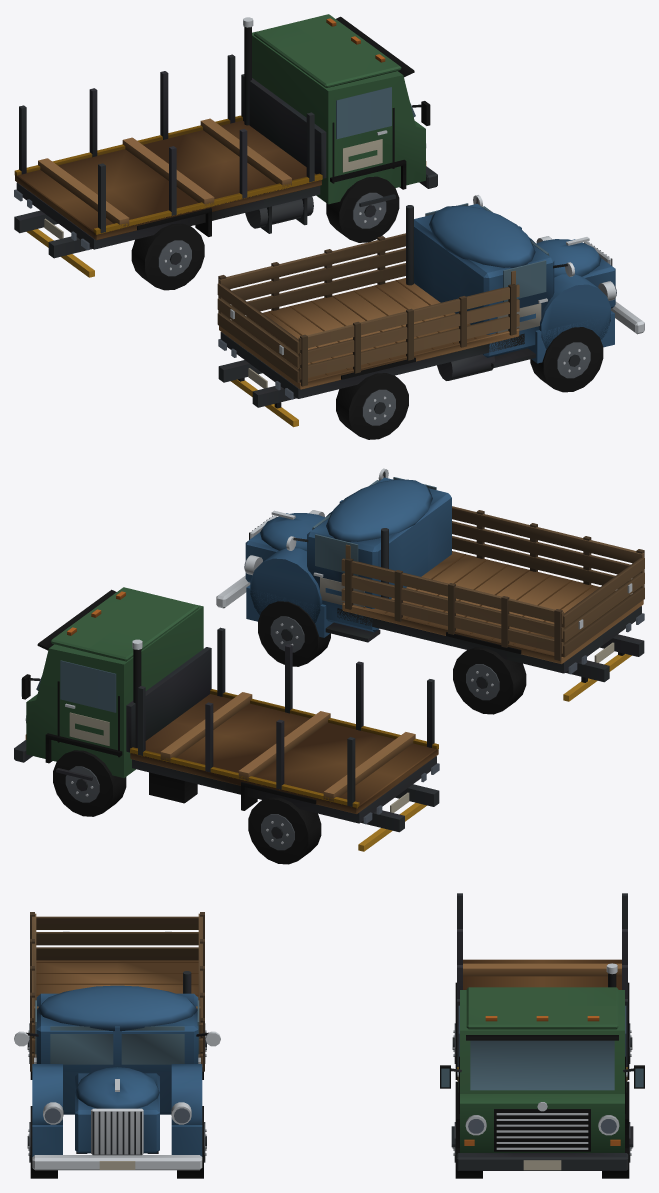
File: truck.glb
3 renders of one model, top to bottom at view 1: azimuth 30°, elevation 25°; view 2: azimuth 150°, elevation 25°; view 3: azimuth 270°, elevation 25°, orthographic. The views are drawn at different scales.
Parts seen in each view (by area): view 1: flatbed_body, lorry_body, wheel_rr.001, wheel_rr, tailgate, wheel_fr.001, wheel_fr; view 2: flatbed_body, lorry_body, wheel_rl, wheel_rl.001, tailgate, wheel_fl.001, wheel_fl; view 3: flatbed_body, lorry_body, tailgate, wheel_fr, wheel_fl, lamp_head.
Part boxes in pixels (x1,y1,x2,y2): flatbed_body: (14, 14, 437, 277); lorry_body: (218, 195, 644, 427); wheel_rr.001: (131, 223, 204, 290); wheel_rr: (336, 373, 408, 439); tailgate: (217, 283, 300, 382); wheel_fr.001: (326, 176, 399, 242); wheel_fr: (530, 327, 603, 392); flatbed_body: (14, 587, 439, 851); lorry_body: (216, 468, 644, 701); wheel_rl: (453, 647, 526, 714); wheel_rl.001: (248, 797, 321, 864); tailgate: (562, 557, 644, 657); wheel_fl.001: (53, 750, 126, 816); wheel_fl: (258, 601, 330, 666); flatbed_body: (440, 893, 644, 1170); lorry_body: (14, 912, 220, 1170); tailgate: (36, 916, 198, 960); wheel_fr: (27, 1106, 57, 1178); wheel_fl: (177, 1106, 206, 1178); lamp_head: (44, 1108, 189, 1123).
Size of the model in its own units: 5.21 by 2.42 by 7.42.
